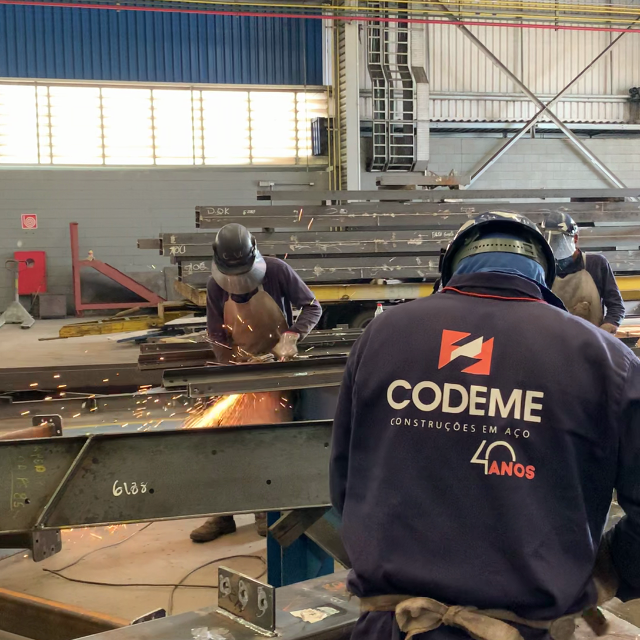face-shield: (210, 251, 269, 297), (541, 232, 575, 262)
glove: (272, 329, 301, 359), (600, 322, 618, 334)
helmet: (438, 209, 555, 292), (212, 222, 258, 267), (541, 211, 580, 231)
person: (328, 210, 637, 619), (205, 222, 325, 362), (540, 212, 629, 333)
